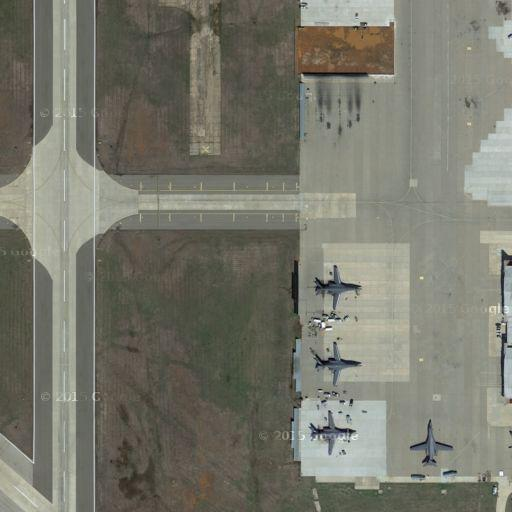B-1B: (404, 418, 460, 469), (310, 264, 364, 309), (308, 341, 362, 385), (305, 411, 360, 454)
